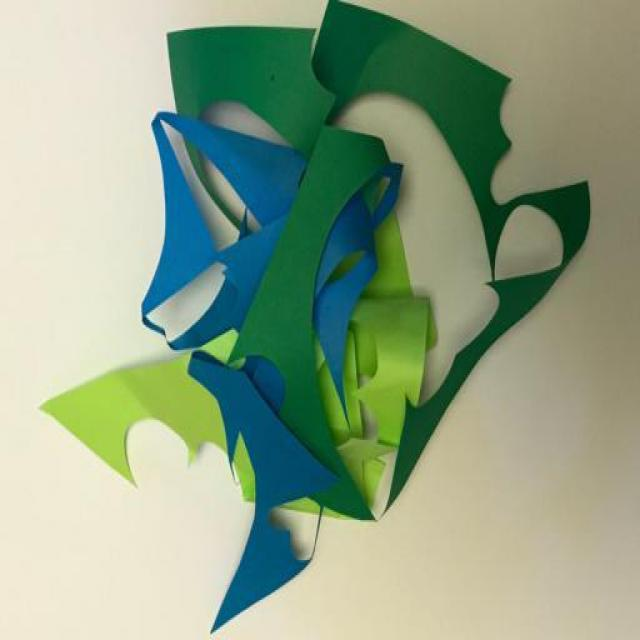paper: (35, 6, 595, 616)
